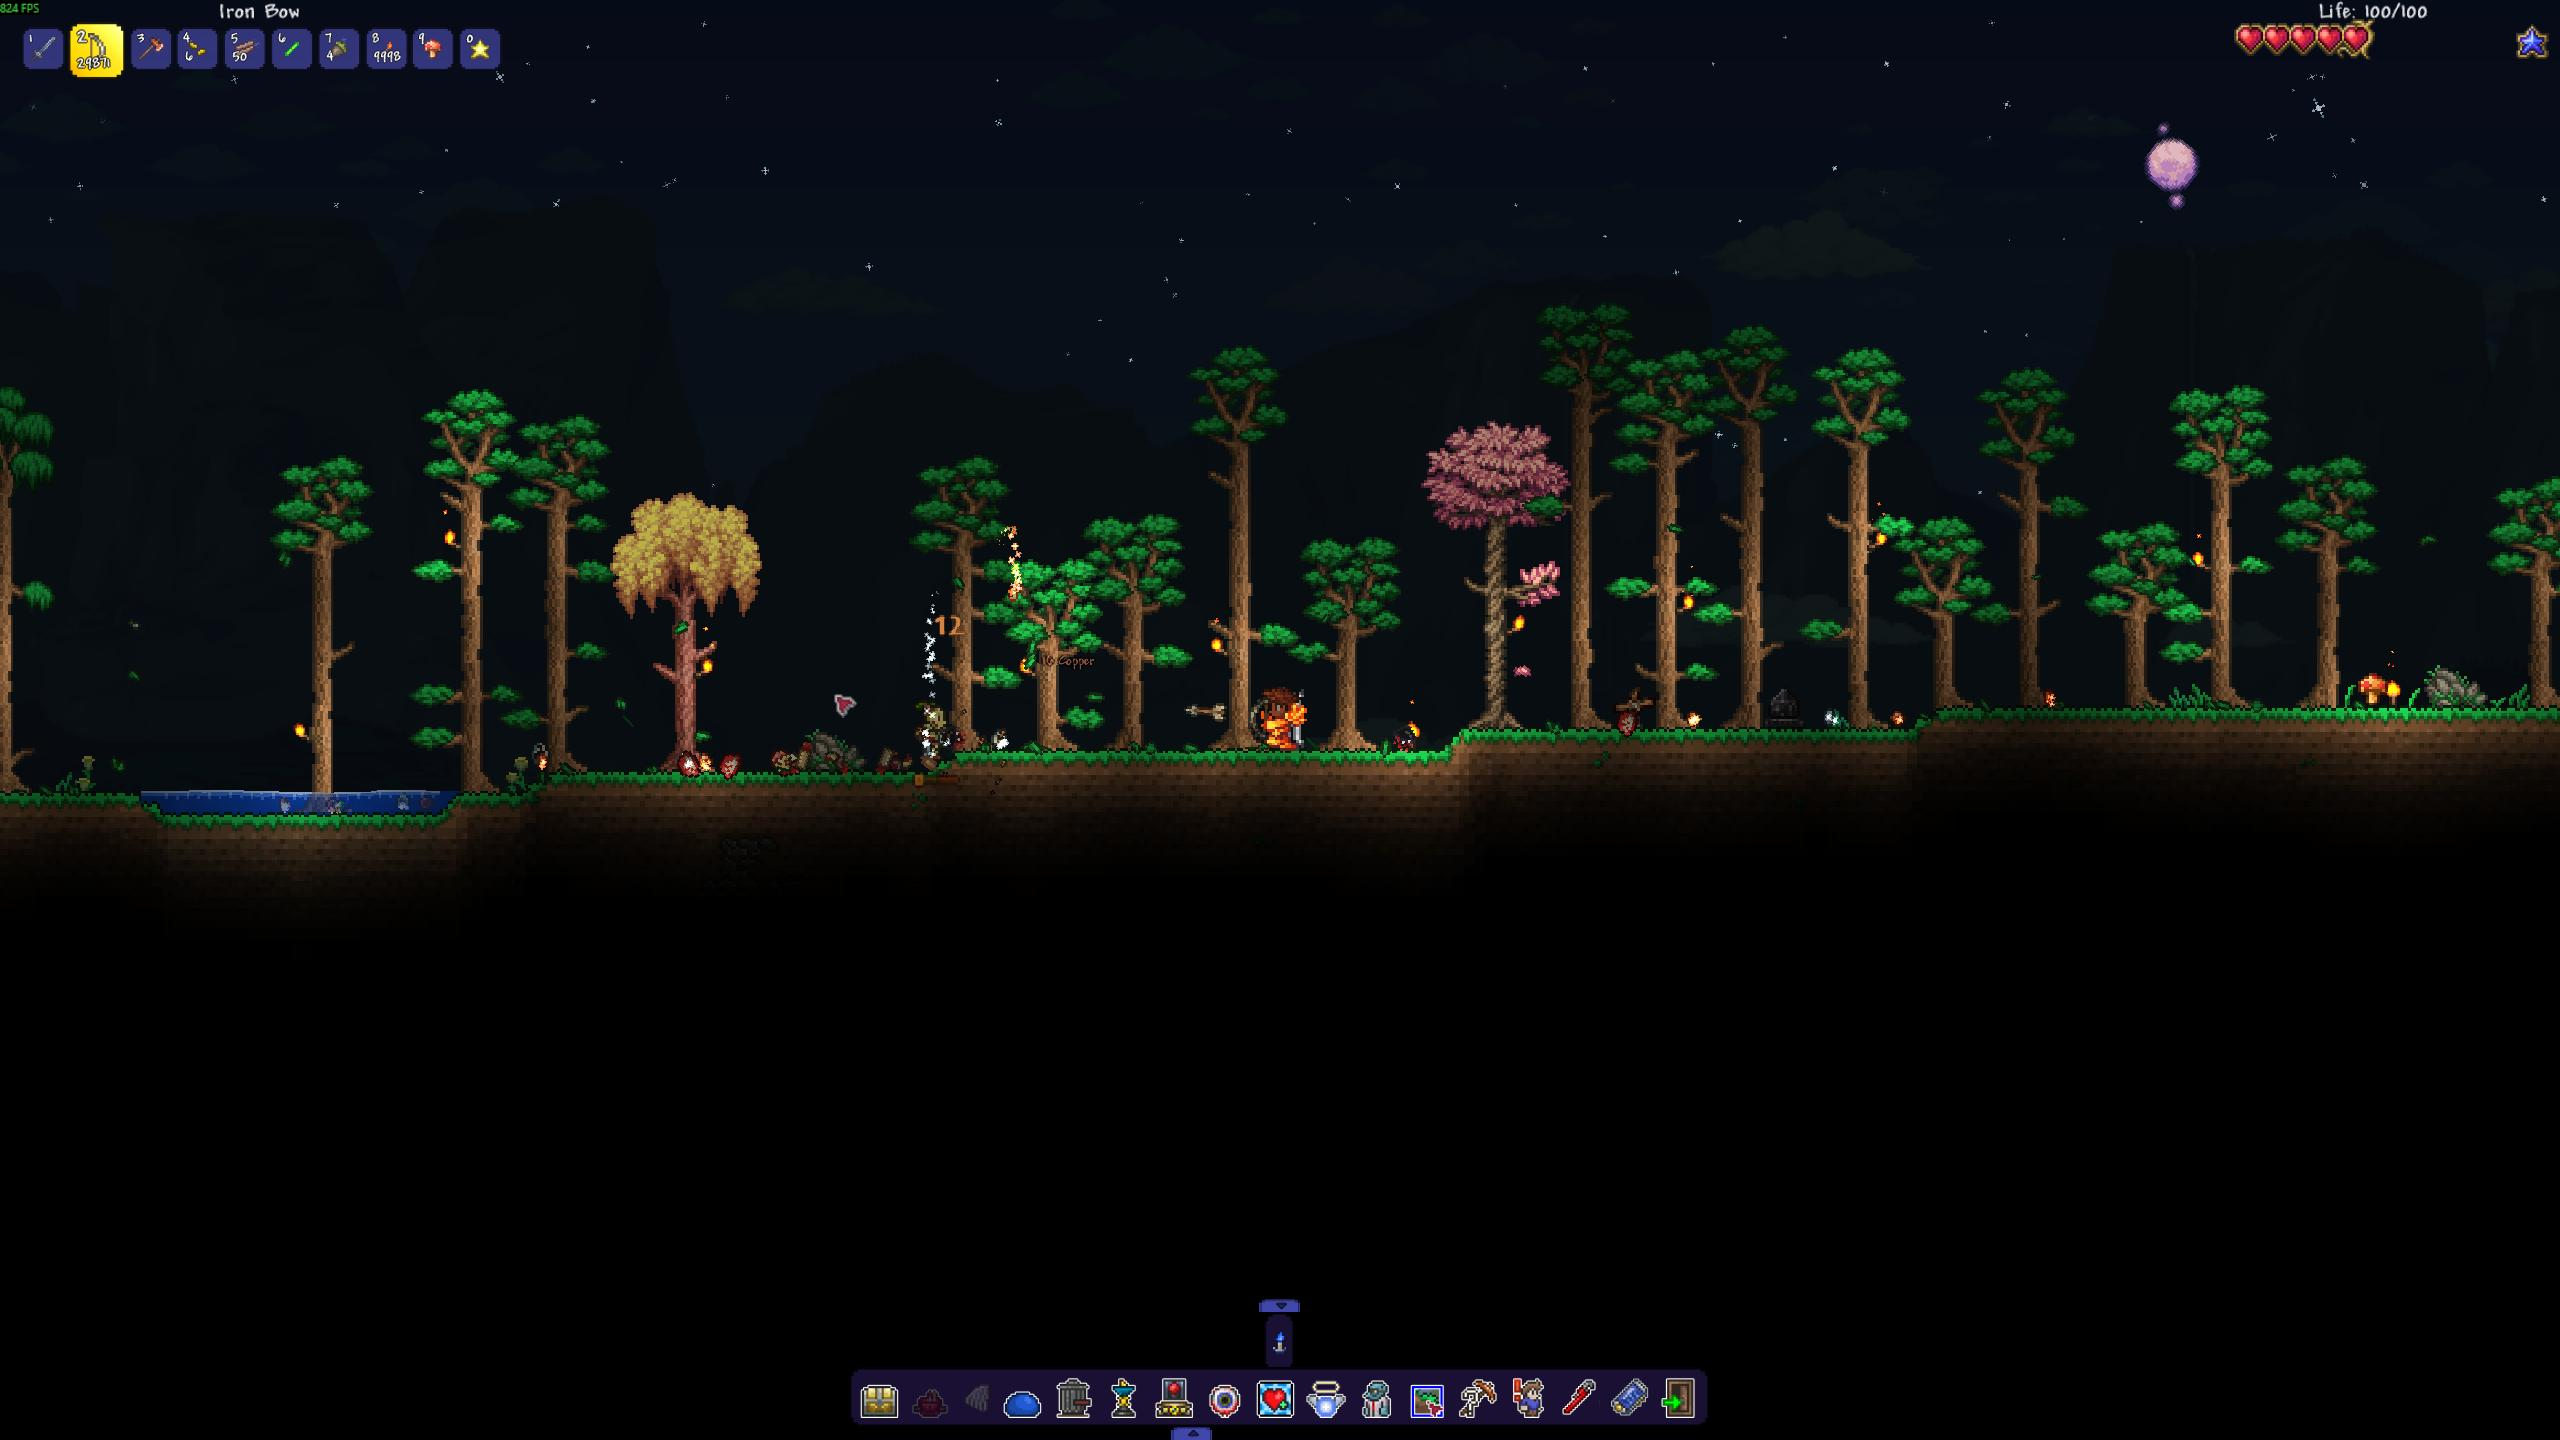Zombie: (914, 693, 953, 761)
